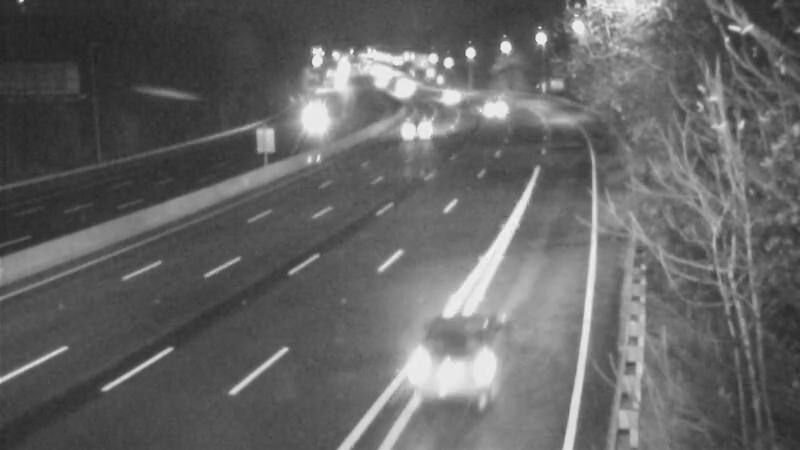vehicle: (397, 320, 507, 430), (418, 74, 468, 124), (464, 89, 514, 139), (391, 103, 441, 153), (283, 100, 333, 150)
